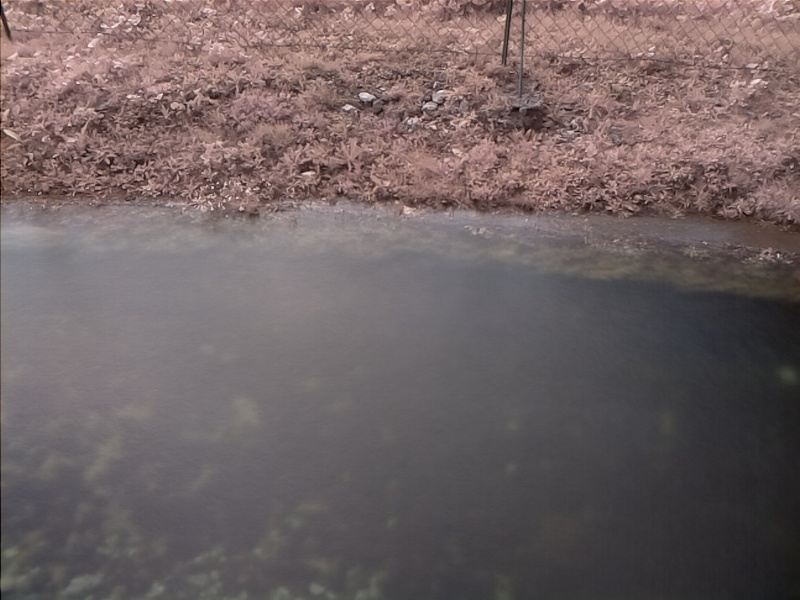Water: (1, 197, 798, 600)
